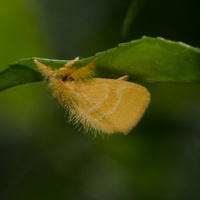insect: (34, 57, 149, 133)
